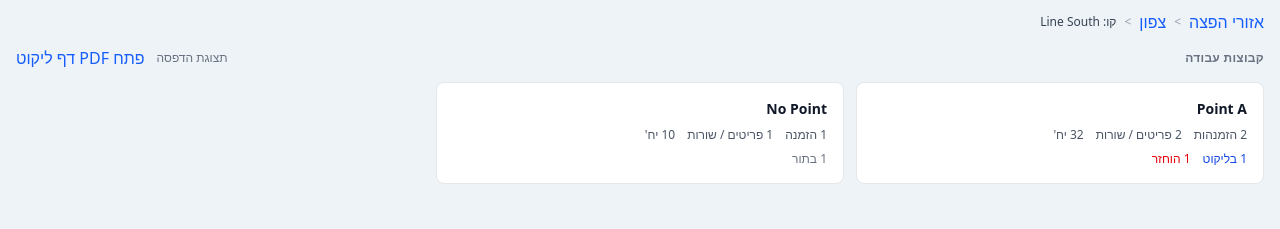
DesktopHierarchyPanel › print action — line-level and detail › line-level PDF failure shows error and closes the blank tab
Click the button with test id "print-picker-sheet-line". click: (80, 58)
box: [16,46,144,70]
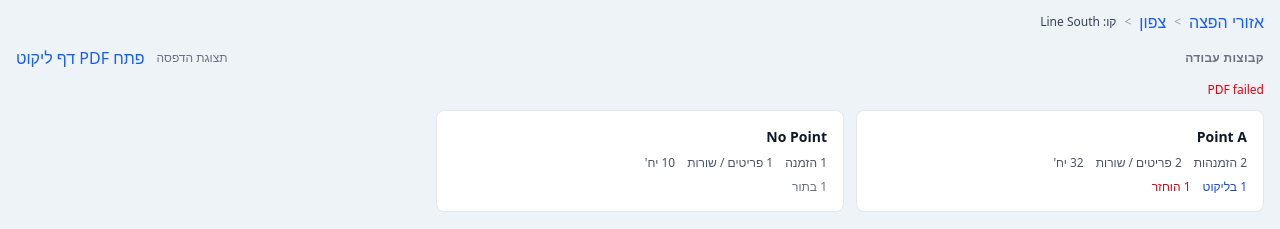
Check: the message reads "PDF failed", box [1207,81,1264,98]
